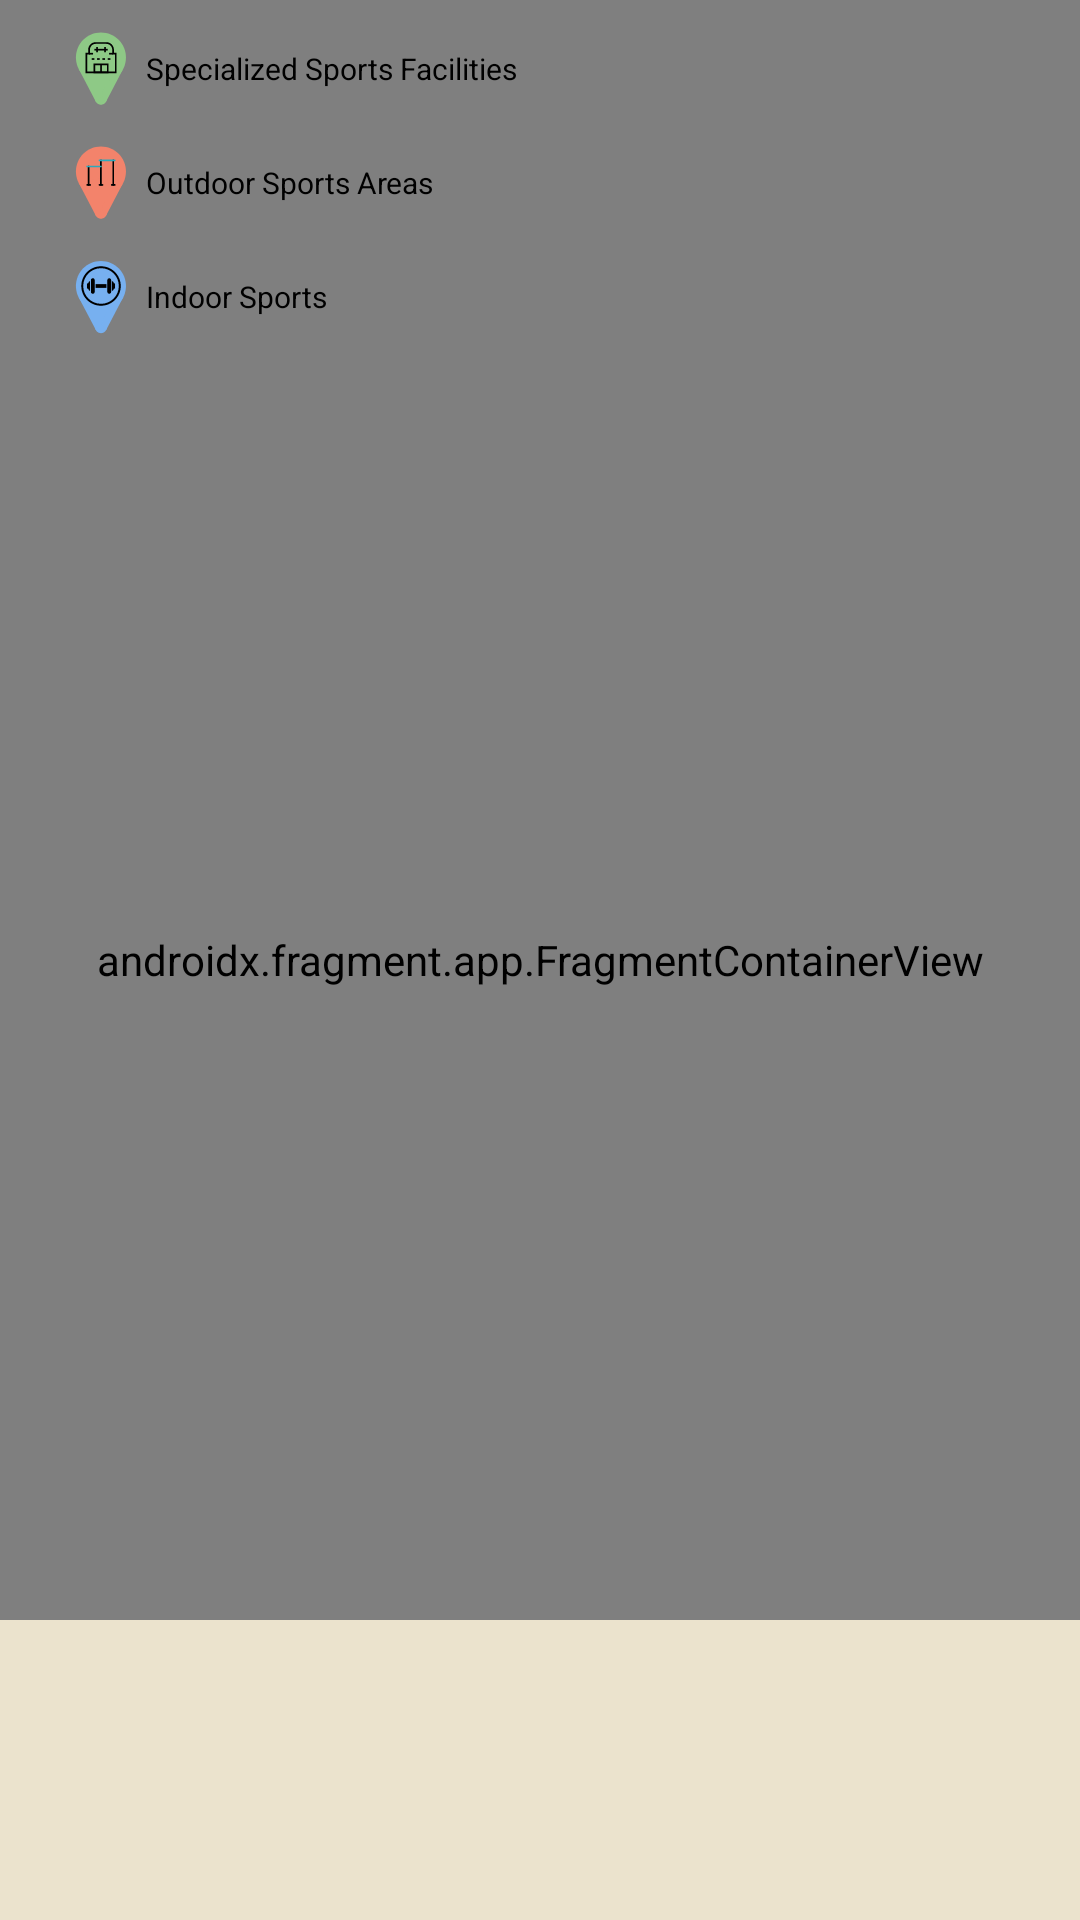

Screen size 1080w x 1920h. Icon name, then its box in pixels as bbox(x1, y1, x2, y2):
gym: bbox(76, 261, 126, 333)
pull up bar: bbox(76, 146, 126, 219)
sport club: bbox(76, 32, 126, 105)
